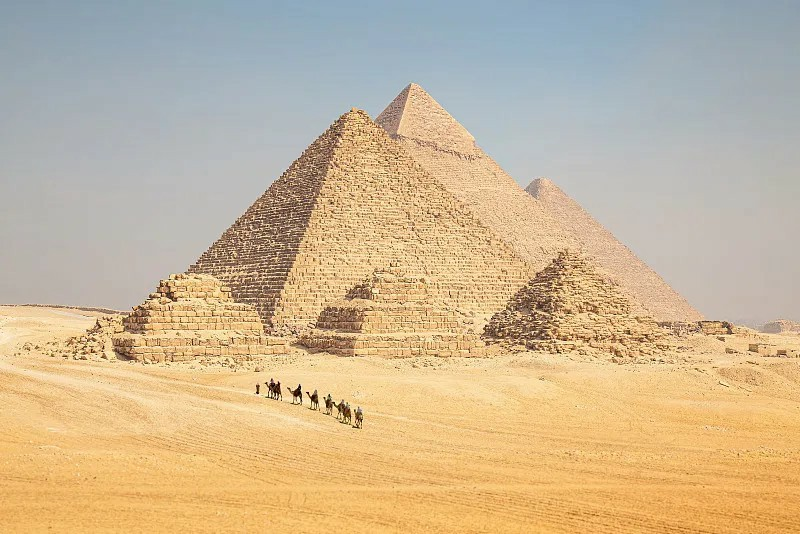Pyramid: (189, 108, 537, 338), (374, 82, 674, 337), (527, 178, 704, 322), (485, 248, 675, 353), (297, 264, 485, 360), (111, 273, 295, 360)
